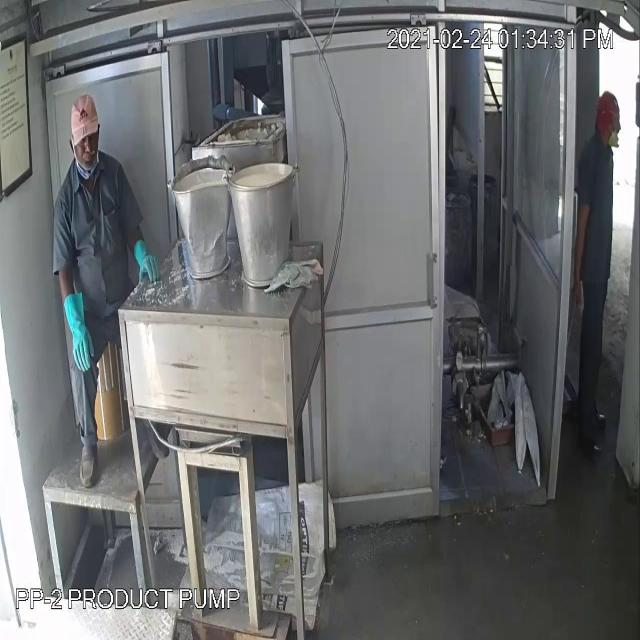no-helmet: (66, 86, 102, 155)
